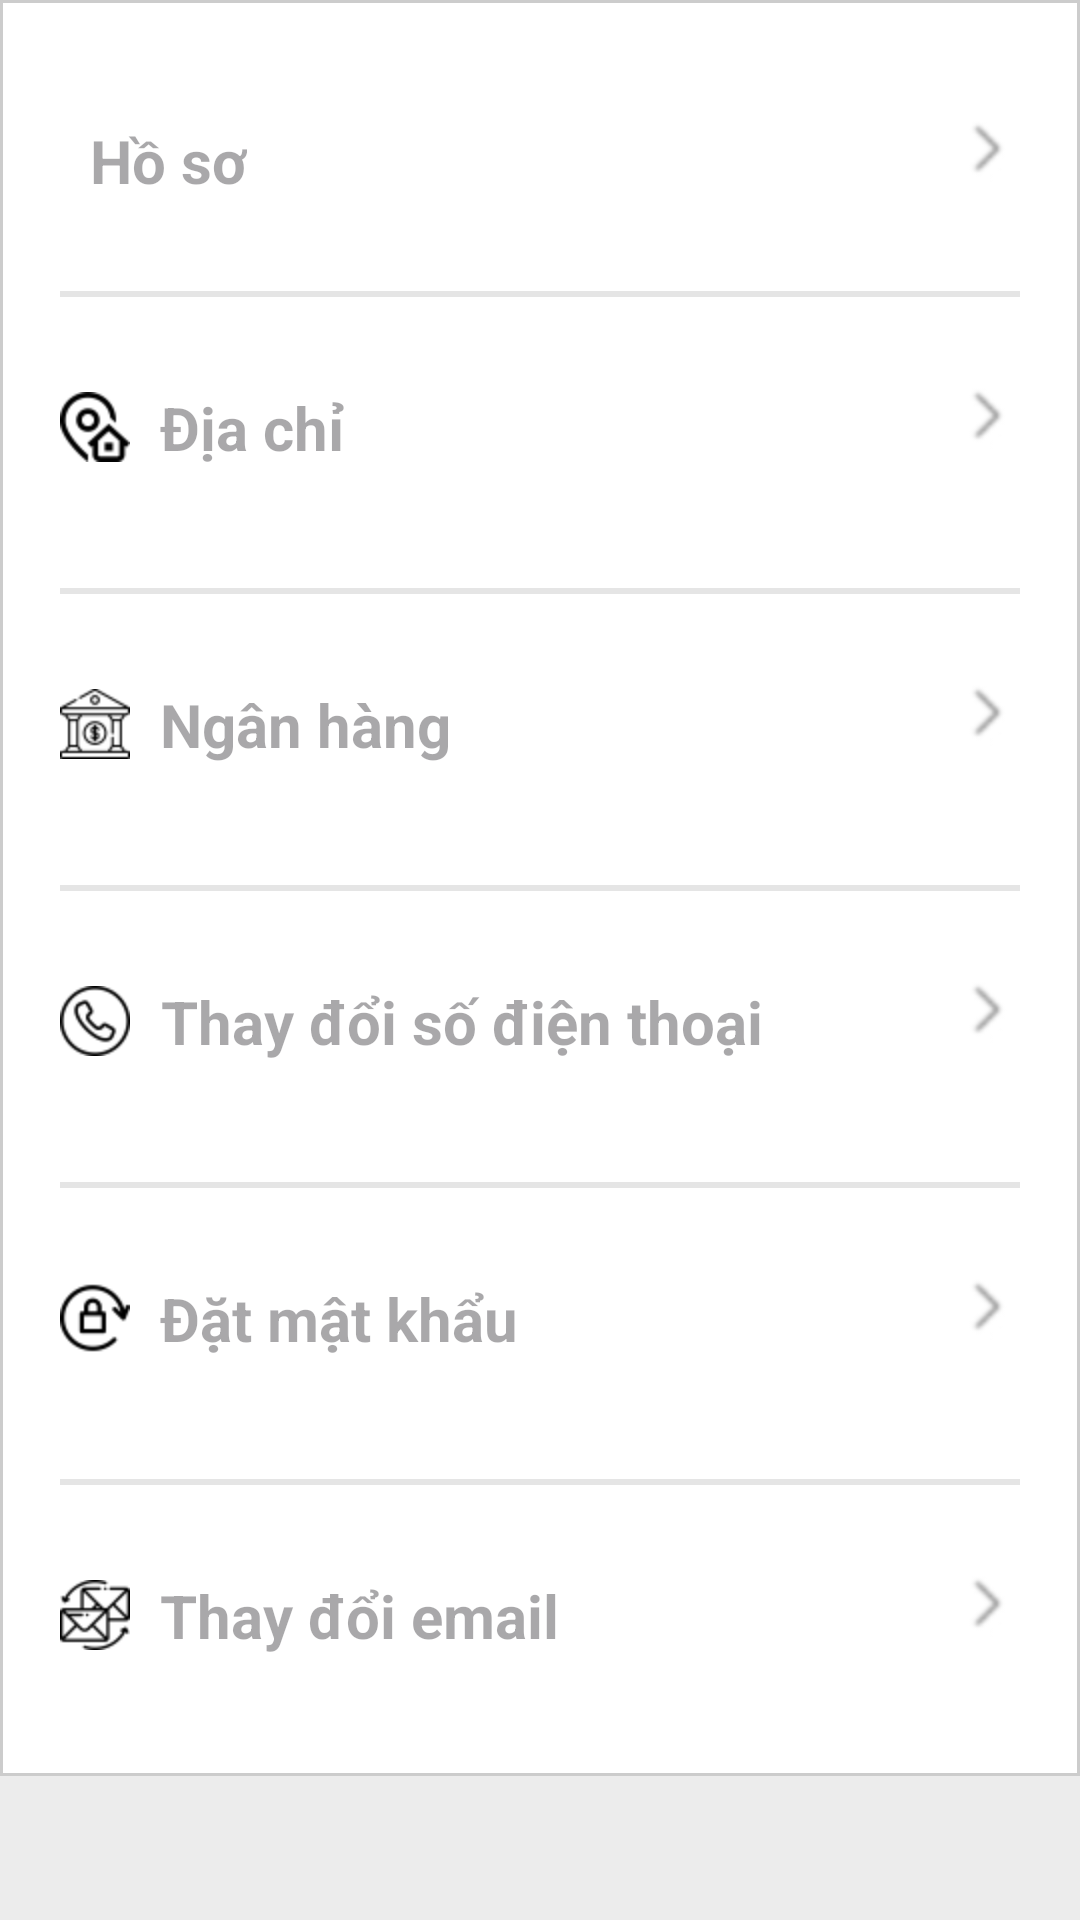

Icons on this 1080 × 1920 Android screen, each with its box as box=[x1, y1, x2, y2]:
turn to: box=[975, 126, 1000, 171], box=[975, 393, 1000, 438], box=[975, 690, 1000, 735], box=[975, 987, 1000, 1032], box=[975, 1284, 1000, 1329], box=[975, 1581, 1000, 1626]
